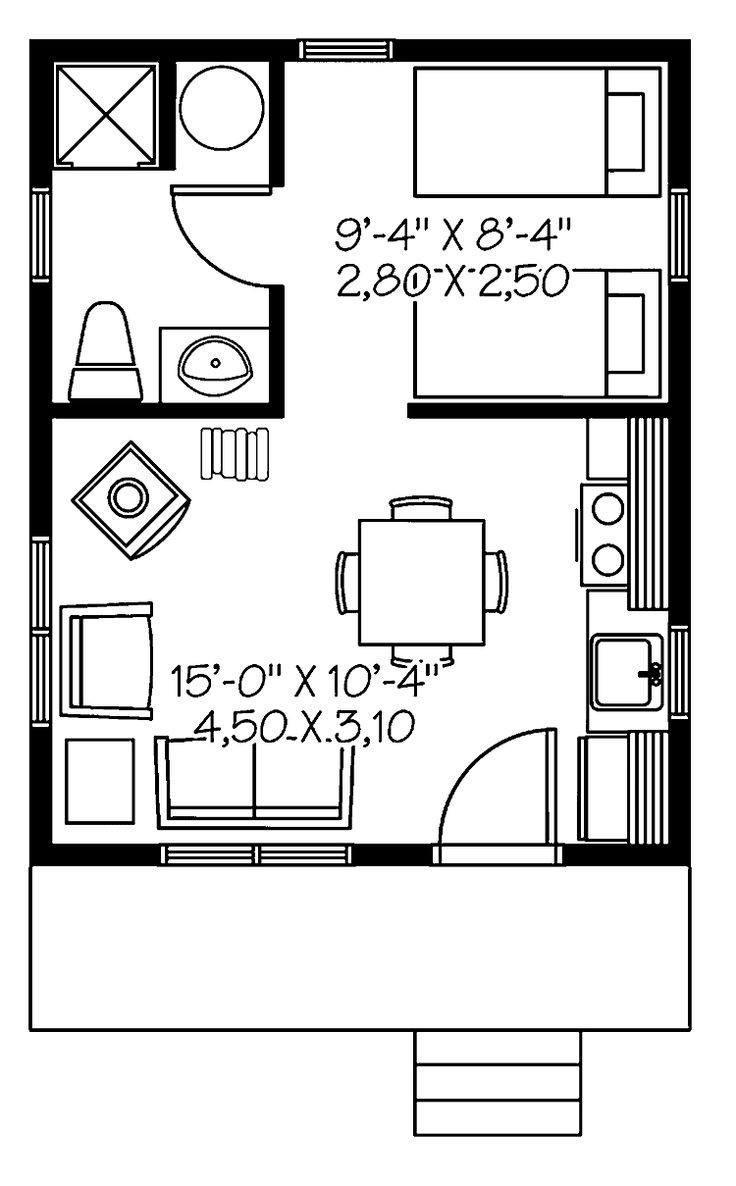door: (430, 711, 585, 864), (159, 166, 285, 298)
room: (27, 15, 688, 884)
wall: (652, 280, 699, 635), (405, 24, 708, 73), (48, 16, 305, 73), (19, 289, 57, 536), (407, 393, 659, 429), (56, 398, 279, 435), (256, 296, 314, 415), (7, 838, 156, 880), (23, 38, 65, 182), (659, 64, 708, 182), (28, 735, 67, 864), (563, 831, 688, 871), (663, 720, 697, 858), (261, 75, 296, 191)
window: (163, 822, 359, 884), (14, 546, 76, 731), (19, 178, 81, 287), (297, 27, 379, 82), (659, 193, 697, 280), (650, 636, 694, 711)
